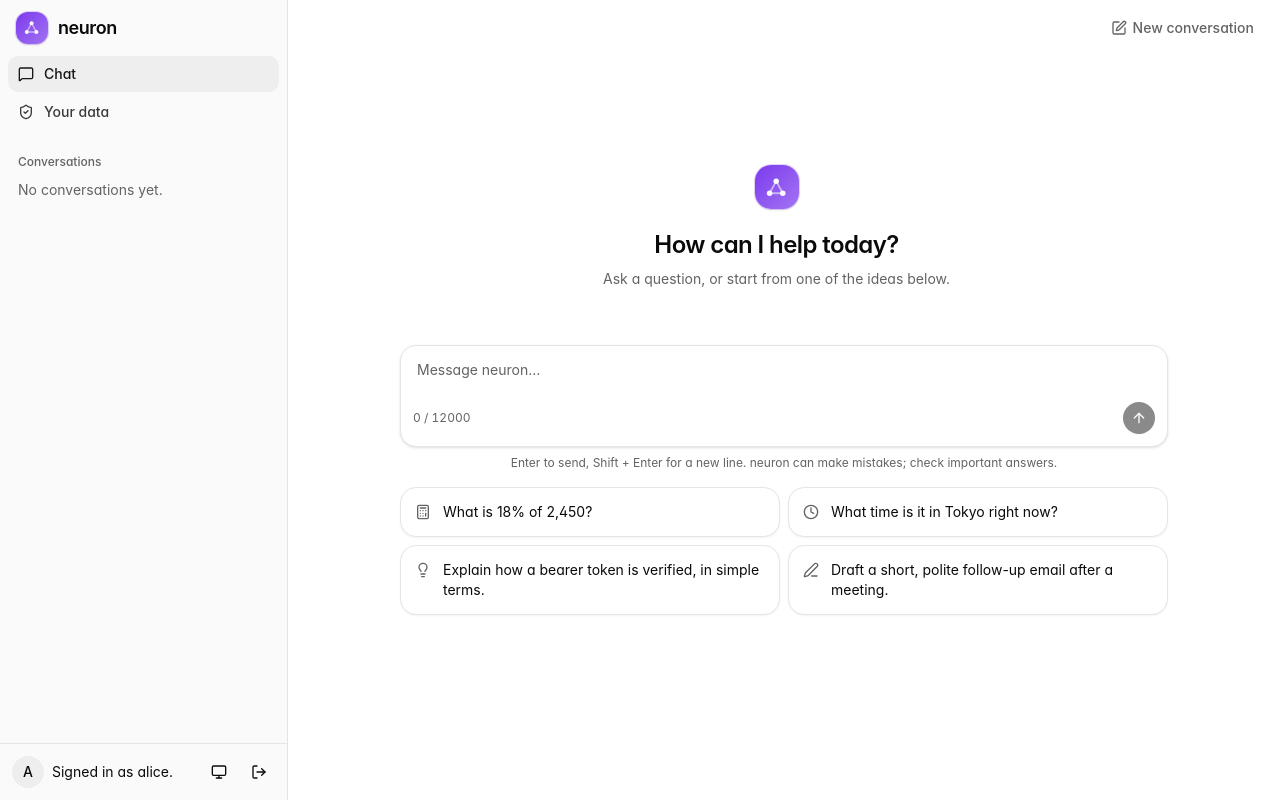
Test: the whole app, signed in, contacts only the API and the identity provider › the beacon text is shown as text, not fetched
Click the text box labelled "Message". click: (784, 374)
box: top-left (401, 346), bottom-right (1167, 402)
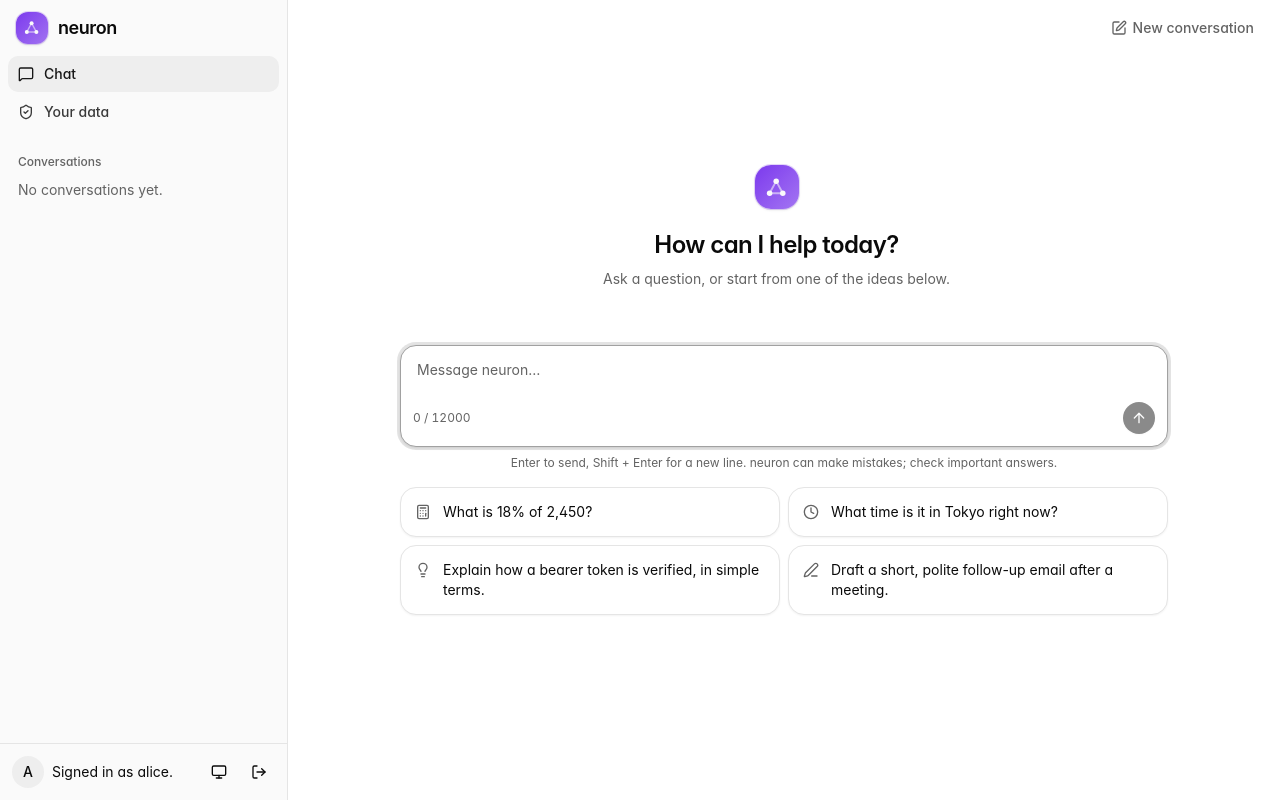
Type keys "hi"
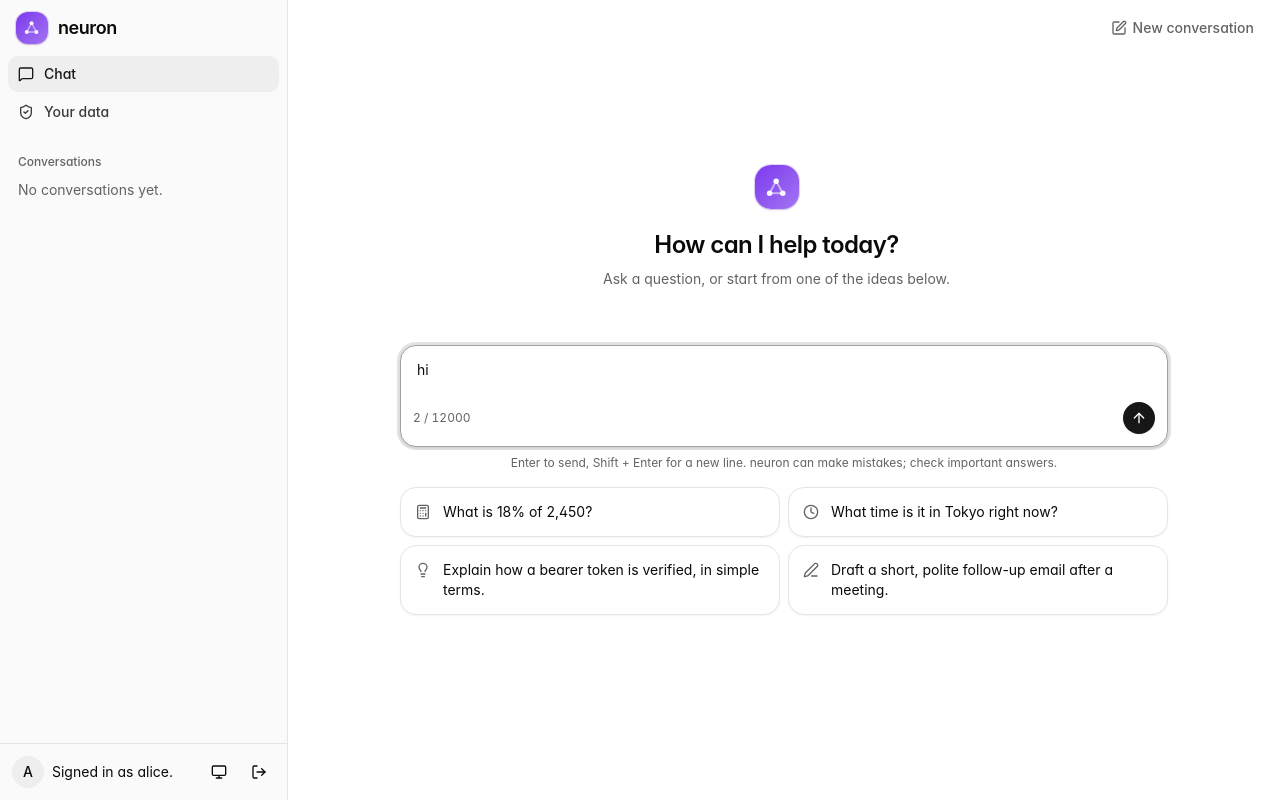
Click the button named "Send". click: (1139, 418)
box: top-left (1123, 402), bottom-right (1155, 434)
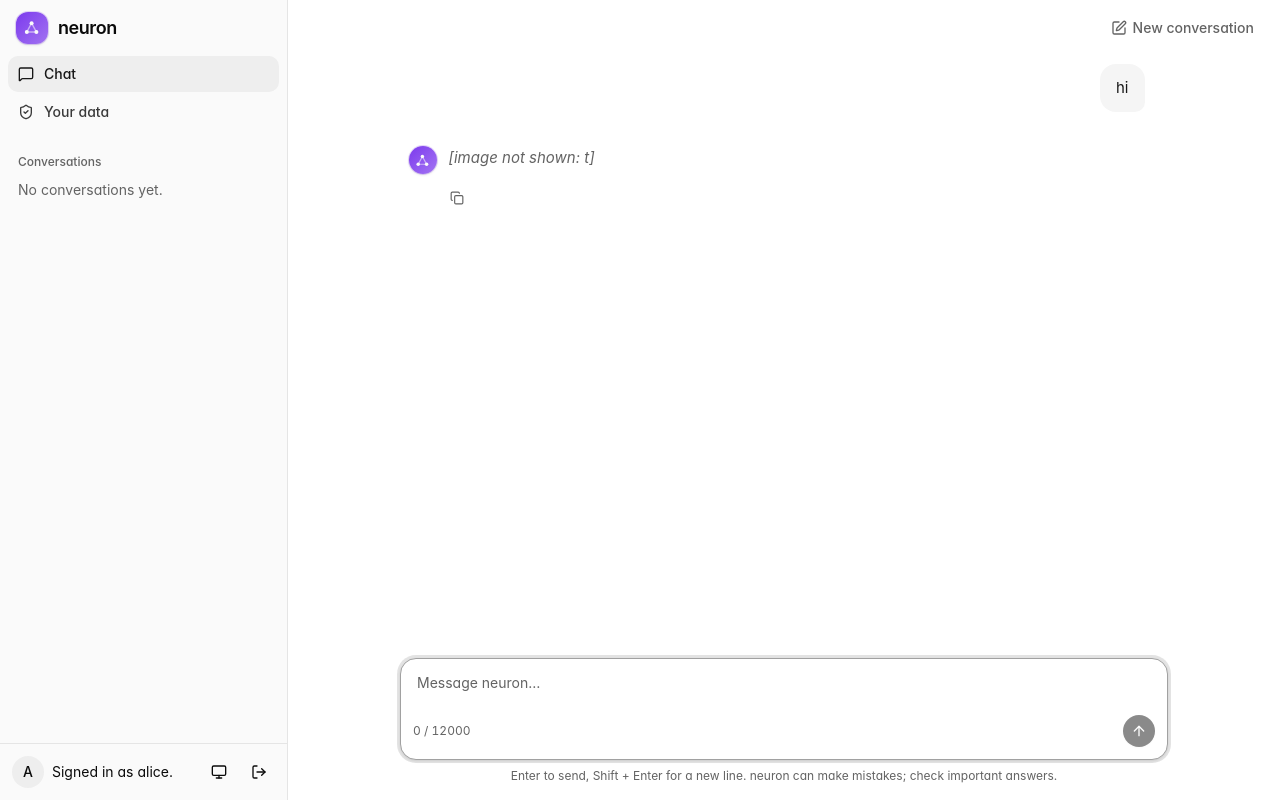
expect the text "[image not shown: t]" is shown: met, box top-left (448, 148), bottom-right (595, 167)
